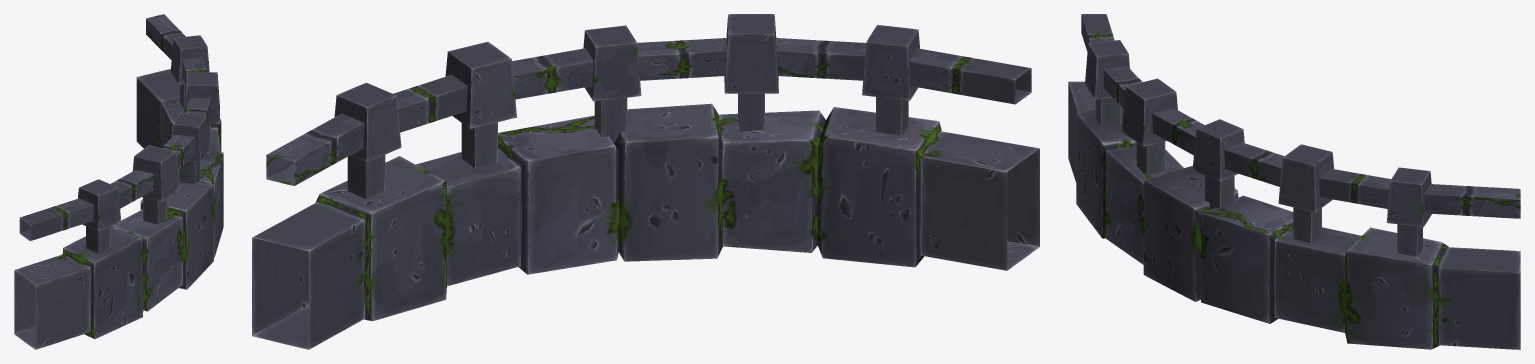
The model's file is MOD_Railing_01_convex.fbx.
The picture shows the model from 3 angles, left to right: view 1: azimuth 30°, elevation 25°; view 2: azimuth 150°, elevation 25°; view 3: azimuth 270°, elevation 25°; orthographic projection. The views are drawn at different scales.
Parts seen in each view (by area): view 1: MOD_Railing_01_convex; view 2: MOD_Railing_01_convex; view 3: MOD_Railing_01_convex.
Part boxes in pixels (x1,y1,x2,y2): MOD_Railing_01_convex: [14, 14, 223, 349]; MOD_Railing_01_convex: [252, 14, 1039, 349]; MOD_Railing_01_convex: [1068, 14, 1520, 349].
Size of what is drawn, in the model's own units: 424 by 175 by 424.
